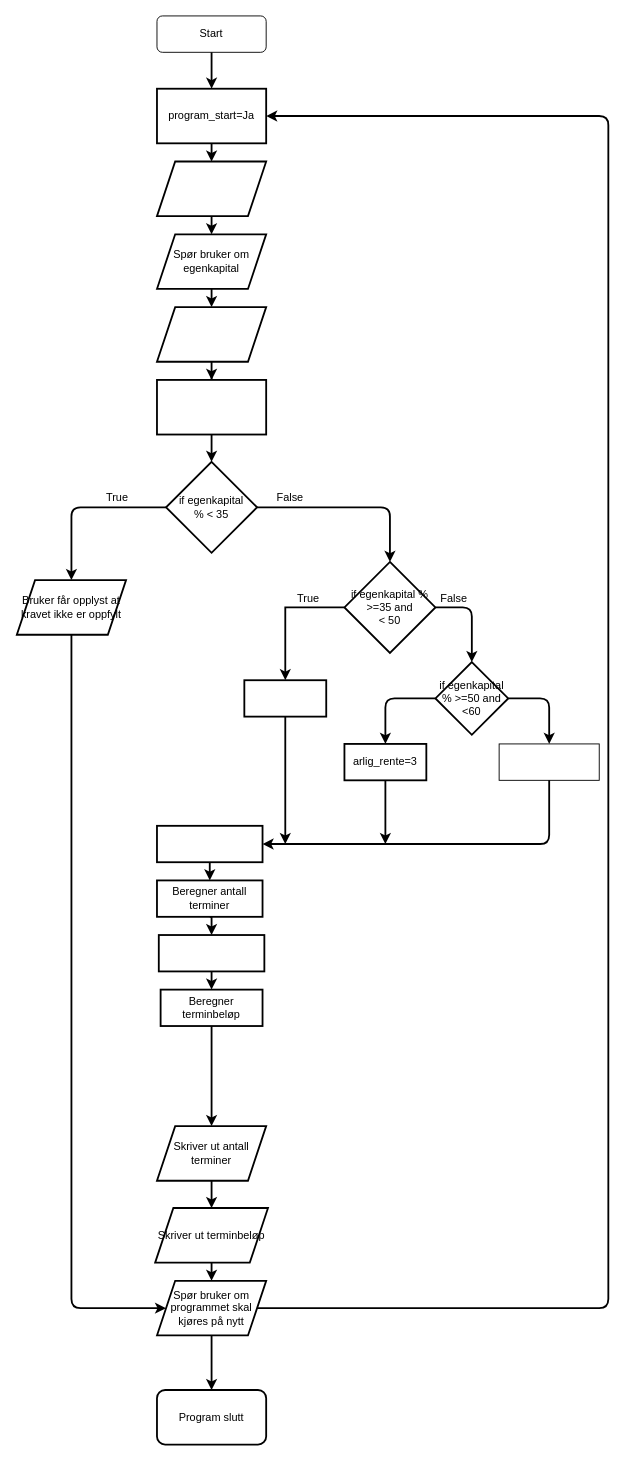
This 632x1461 diagram has some shape labels left out. The shapes that lost their labels are listed below. From the top down, each one's centre as x and y in pixels, then its label:
At point (211, 188): "Spør bruker om bilpris".
At point (211, 334): "Spør bruker om antall år på nedbetaling".
At point (211, 407): "Beregner % forhold mellom kjøpesum og brukers egenkapital".
At point (285, 698): "arlig_rente=4.5".
At point (548, 761): "arlig_rente=2.5".
At point (209, 843): "Beregner lånesum".
At point (211, 953): "Beregner terminrente".
